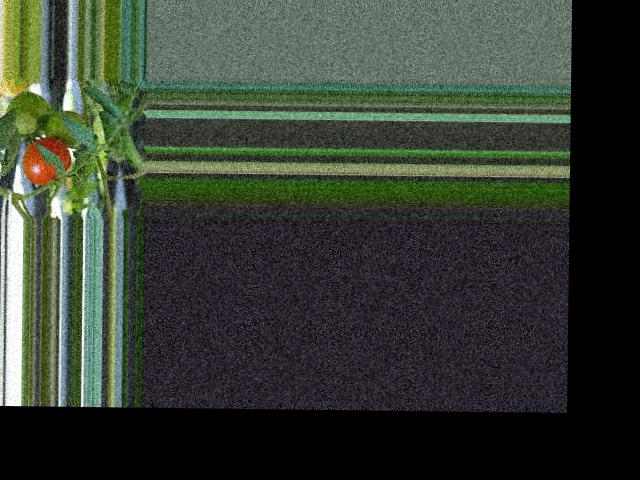tomato: (21, 137, 70, 185)
